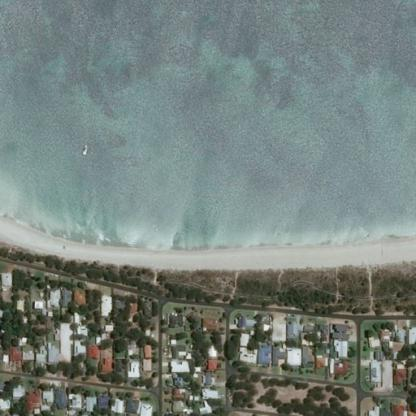ship: (82, 145, 87, 155)
